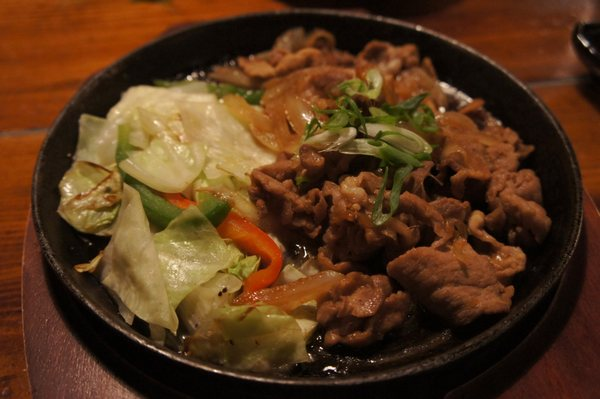sushi: (23, 14, 591, 392)
